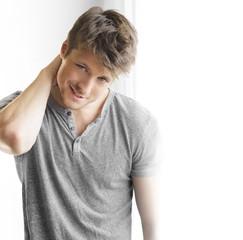young: (52, 14, 143, 114)
